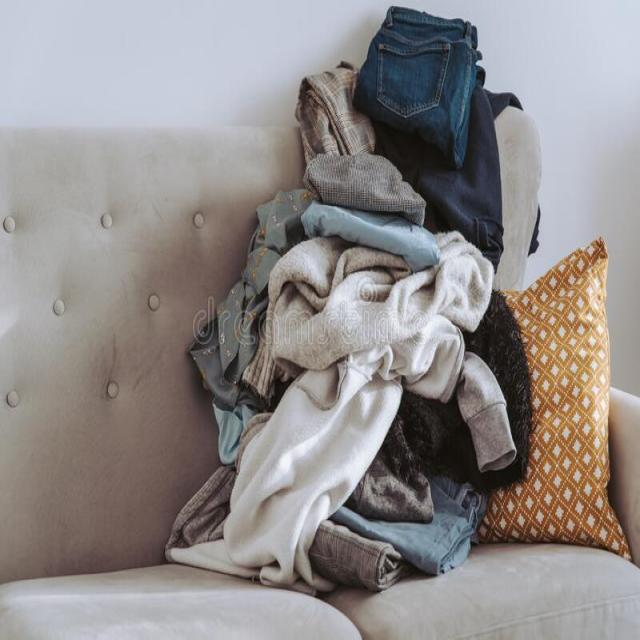clothes: (320, 56, 572, 590)
